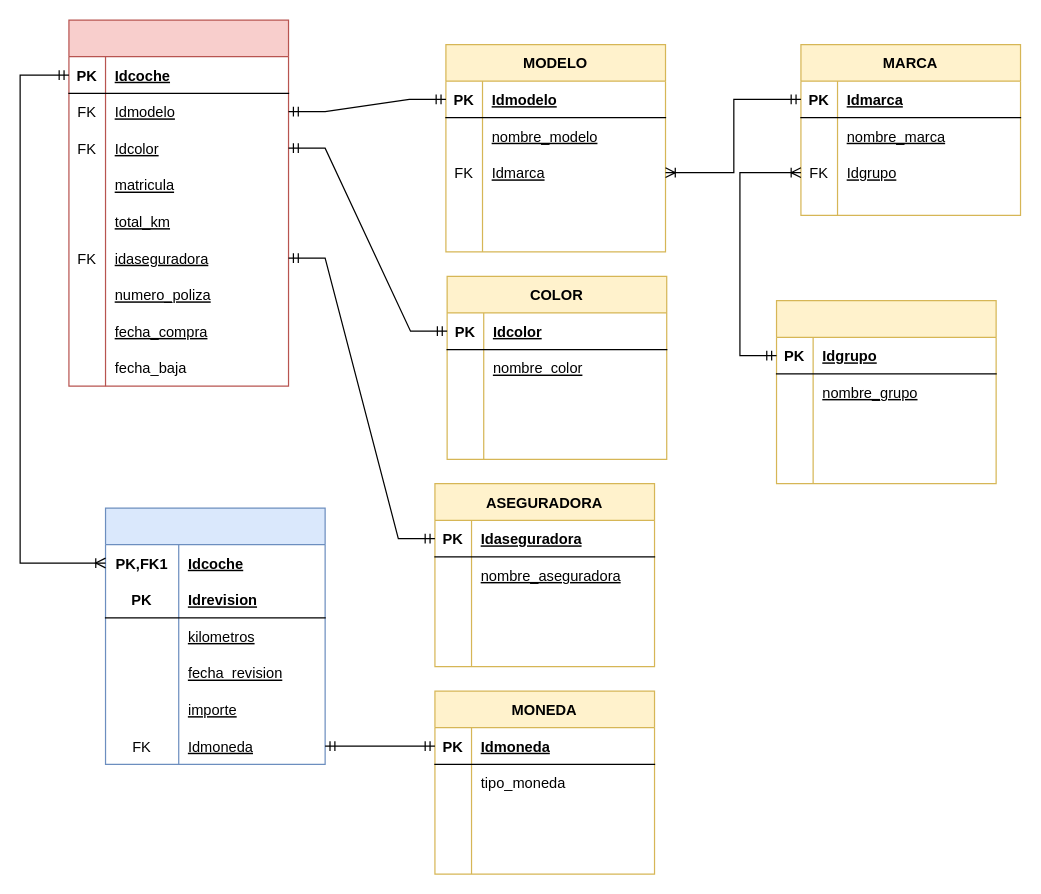
Image size: 1041x894. Some labels were removed from this diagram. Here are the shapes that lost their labels. From the top down, the box of each, then its label:
(68, 19, 289, 386): COCHES
(775, 300, 996, 484): GRUPO_EMPRESARIAL
(104, 507, 325, 764): REVISIONES
